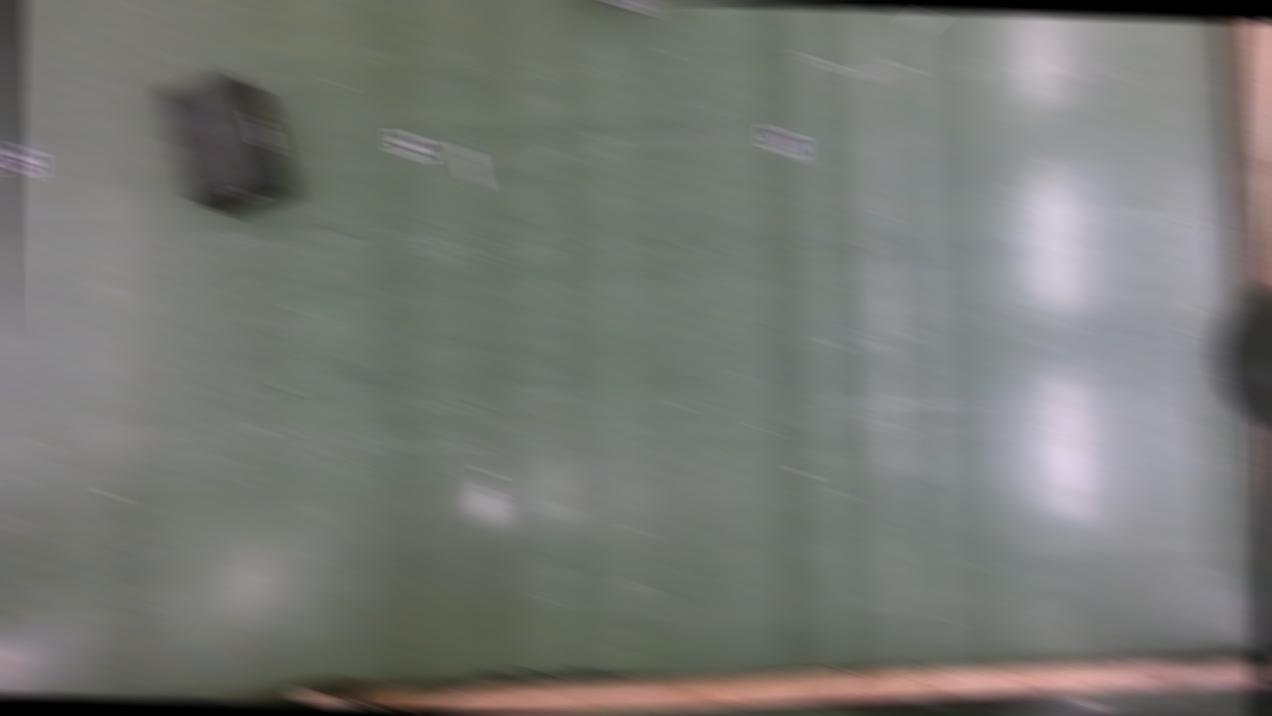probes: (458, 146, 484, 188), (908, 8, 940, 32)
rako: (152, 69, 300, 221)
